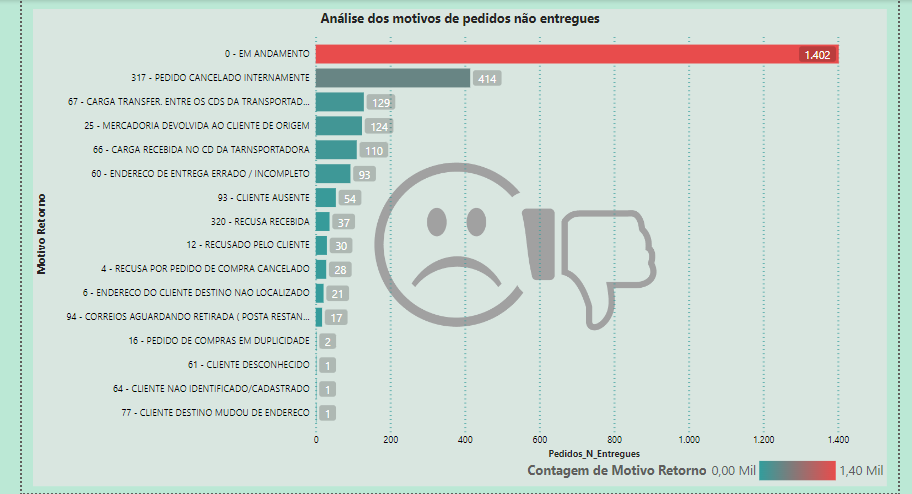

What the dashboard file says about the page in this screenshot:
{"tool":"powerbi","page":{"name":"Análise dos não entregues","canvas":[1280,720],"ordinal":2},"visuals":[{"type":"image","box":[509.7,149,422.1,422.1],"z":1000},{"type":"clusteredBarChart","title":"Análise dos motivos de pedidos não entregues","fields":{"Category":["sheet01.Motivo Retorno"],"Y":["sheet01.Pedidos_N_Entregues"]},"box":[16.1,13.1,1247.2,696.6],"z":3500}]}

Visuals, with their boxes on the page's 1280x720 design canvas (x1, y1, x2, y2). These are canvas units, not pixel positions in the 912x494 screenshot, which may show the page scaled, cropped or inside an application window:
image: bbox(510, 149, 932, 571)
"Análise dos motivos de pedidos não entregues" clusteredBarChart: bbox(16, 13, 1263, 710)
